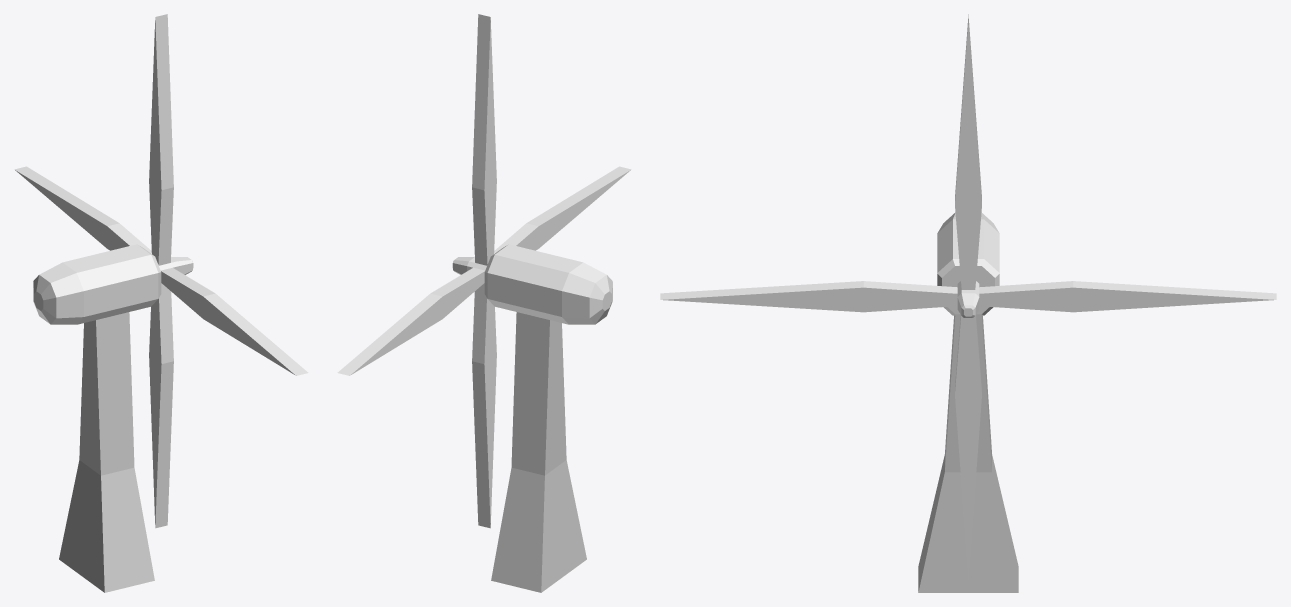
File: Molino.fbx
3 renders of one model, left to right at view 1: azimuth 30°, elevation 25°; view 2: azimuth 150°, elevation 25°; view 3: azimuth 270°, elevation 25°, orthographic. The views are drawn at different scales.
Visible parts, largest first — view 1: Stand, DeathWall, Engine; view 2: Stand, DeathWall, Engine; view 3: DeathWall, Stand, Engine.
Boxes of the visible parts, x1=… form: Stand: x1=59, y1=312, x2=154, y2=592; DeathWall: x1=14, y1=14, x2=308, y2=528; Engine: x1=33, y1=244, x2=193, y2=324; Stand: x1=491, y1=312, x2=586, y2=592; DeathWall: x1=337, y1=14, x2=631, y2=528; Engine: x1=452, y1=244, x2=612, y2=324; DeathWall: x1=660, y1=14, x2=1276, y2=578; Stand: x1=918, y1=315, x2=1018, y2=592; Engine: x1=937, y1=213, x2=999, y2=317.
Size of the model in its own units: 1229 by 4170 by 3940.
1 material, 1 textured.
